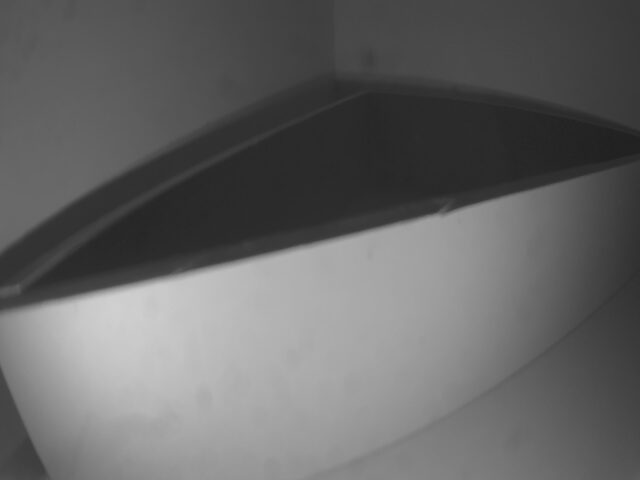Red: (0, 161, 639, 480)
